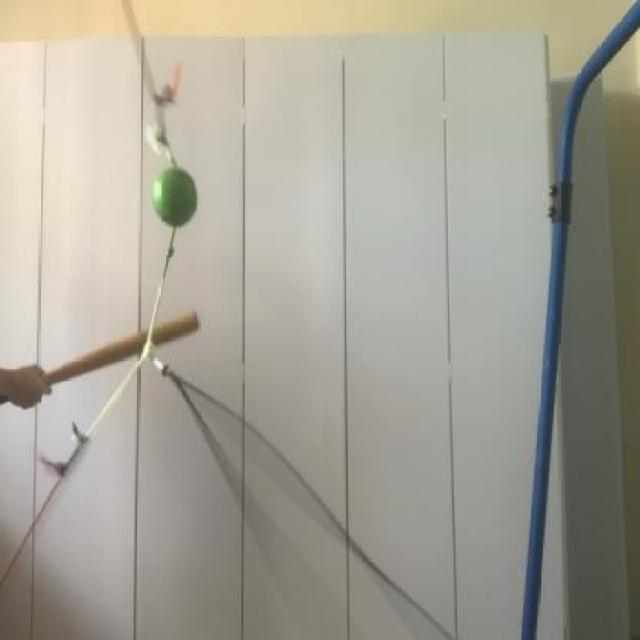baseball: (148, 156, 201, 235)
